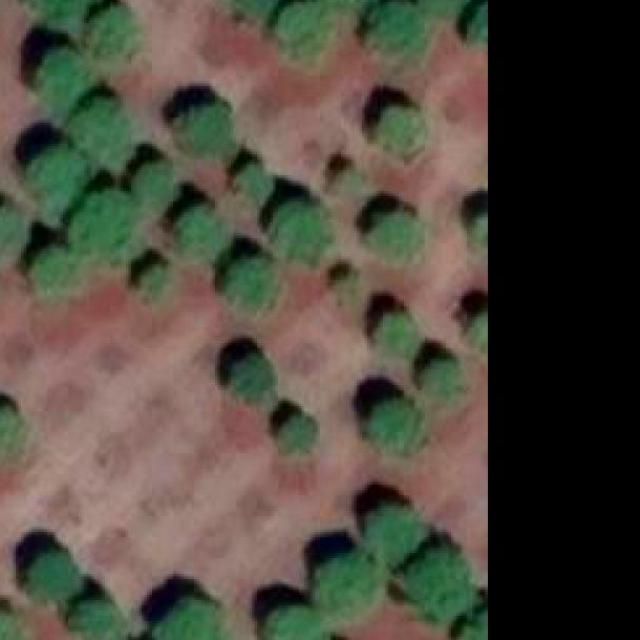Tree: (399, 550, 477, 621), (315, 556, 383, 624), (68, 191, 136, 254), (29, 146, 85, 217), (171, 96, 234, 158), (68, 100, 129, 157), (273, 205, 330, 262), (278, 0, 334, 56), (152, 598, 224, 640), (40, 46, 87, 107), (367, 2, 428, 49), (86, 5, 136, 61), (370, 508, 426, 558), (370, 401, 423, 451), (29, 550, 82, 600), (226, 354, 276, 406), (178, 205, 224, 260), (365, 210, 418, 255), (376, 104, 422, 154), (70, 600, 121, 640), (229, 257, 274, 299), (32, 246, 72, 292), (270, 610, 328, 640), (378, 314, 418, 354), (236, 162, 273, 205), (26, 0, 89, 25), (133, 163, 173, 199), (278, 415, 315, 451), (425, 359, 462, 393), (331, 268, 367, 302), (0, 412, 24, 456), (220, 0, 280, 15), (420, 0, 469, 15), (336, 165, 360, 194), (0, 206, 18, 240), (145, 264, 166, 290), (0, 614, 21, 640)
